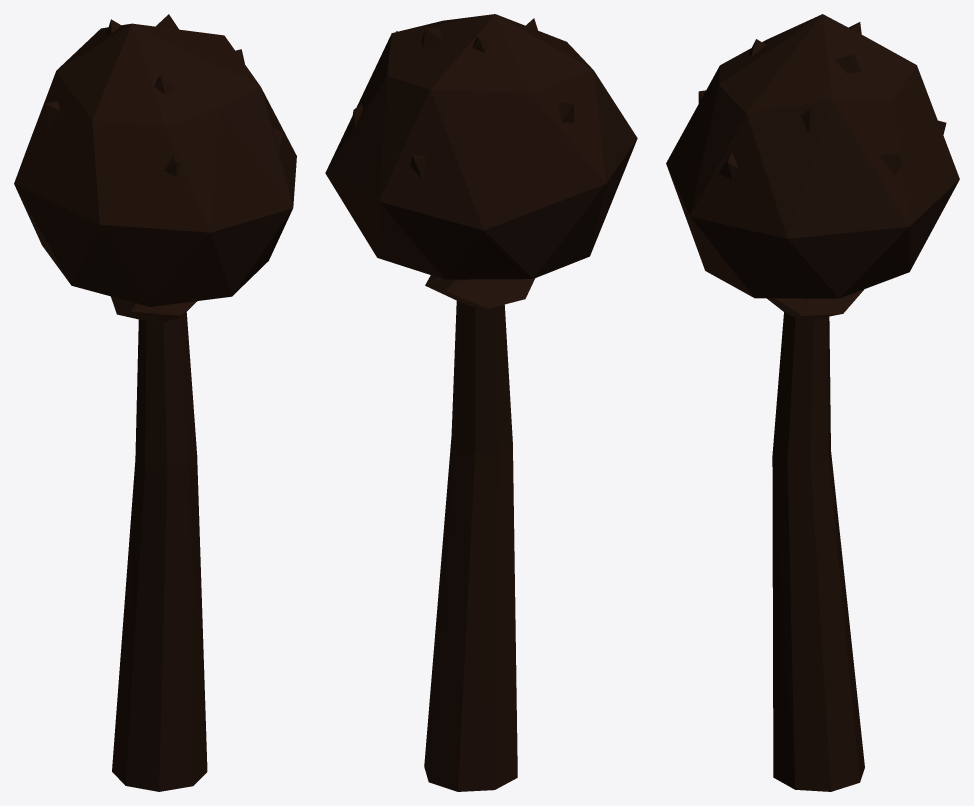
Rendered from mushroom-fly-agaric-mature-a.fbx.
The picture shows the model from 3 angles, left to right: view 1: azimuth 30°, elevation 25°; view 2: azimuth 150°, elevation 25°; view 3: azimuth 270°, elevation 25°; orthographic projection. The views are drawn at different scales.
Visible parts, largest first — view 1: mushroom-fly-agaric-mature-a; view 2: mushroom-fly-agaric-mature-a; view 3: mushroom-fly-agaric-mature-a.
Boxes of the visible parts, x1=… form: mushroom-fly-agaric-mature-a: x1=14, y1=14, x2=296, y2=791; mushroom-fly-agaric-mature-a: x1=325, y1=14, x2=637, y2=791; mushroom-fly-agaric-mature-a: x1=666, y1=14, x2=959, y2=791.
Size of the model in its own units: 156 by 431 by 154.
